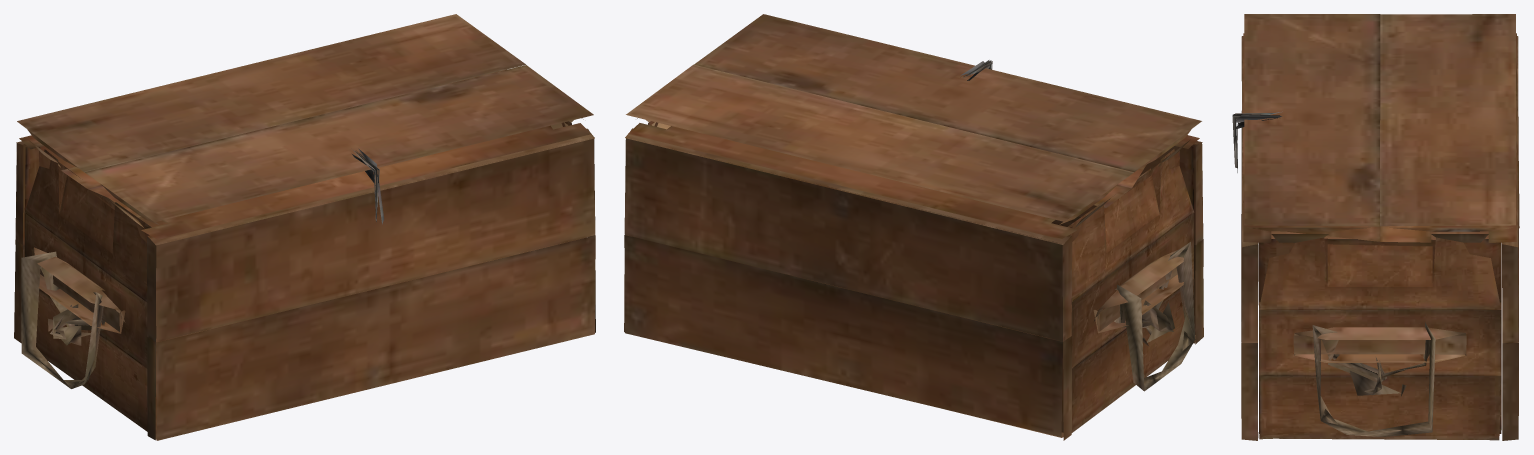
File: kemah-peti.glb
The picture shows the model from 3 angles, left to right: view 1: azimuth 30°, elevation 25°; view 2: azimuth 150°, elevation 25°; view 3: azimuth 270°, elevation 25°; orthographic projection.
Visible parts, largest first — view 1: wooden_crate_01, wooden_crate_01_lid, wooden_crate_01_latch; view 2: wooden_crate_01, wooden_crate_01_lid; view 3: wooden_crate_01_lid, wooden_crate_01, wooden_crate_01_latch.
Boxes of the visible parts, x1,y1,x2,y2 form: wooden_crate_01: (14,121,595,440); wooden_crate_01_lid: (17,14,593,239); wooden_crate_01_latch: (352,148,384,224); wooden_crate_01: (624,121,1203,440); wooden_crate_01_lid: (626,14,1201,239); wooden_crate_01_lid: (1243,14,1516,242); wooden_crate_01: (1241,36,1519,440); wooden_crate_01_latch: (1232,111,1282,172).
Bounding box in the file's own units: 0.6946 × 0.2915 × 0.3397.
Materials: 1 (1 with a texture image).
